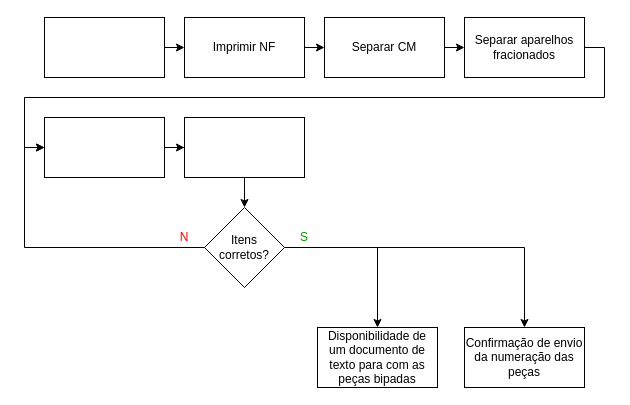
This 630x405 diagram has some shape labels left out. The shapes that lost their labels are listed below. From the top down, each one's centre as x and y in pixels, then its label:
At point 104,47: "Conferir se há NF no Monitor ou Receber um aviso da RED".
At point 104,147: "Bipar peças na ferramenta".
At point 244,147: "Enviar lista bipada ao ERP".
